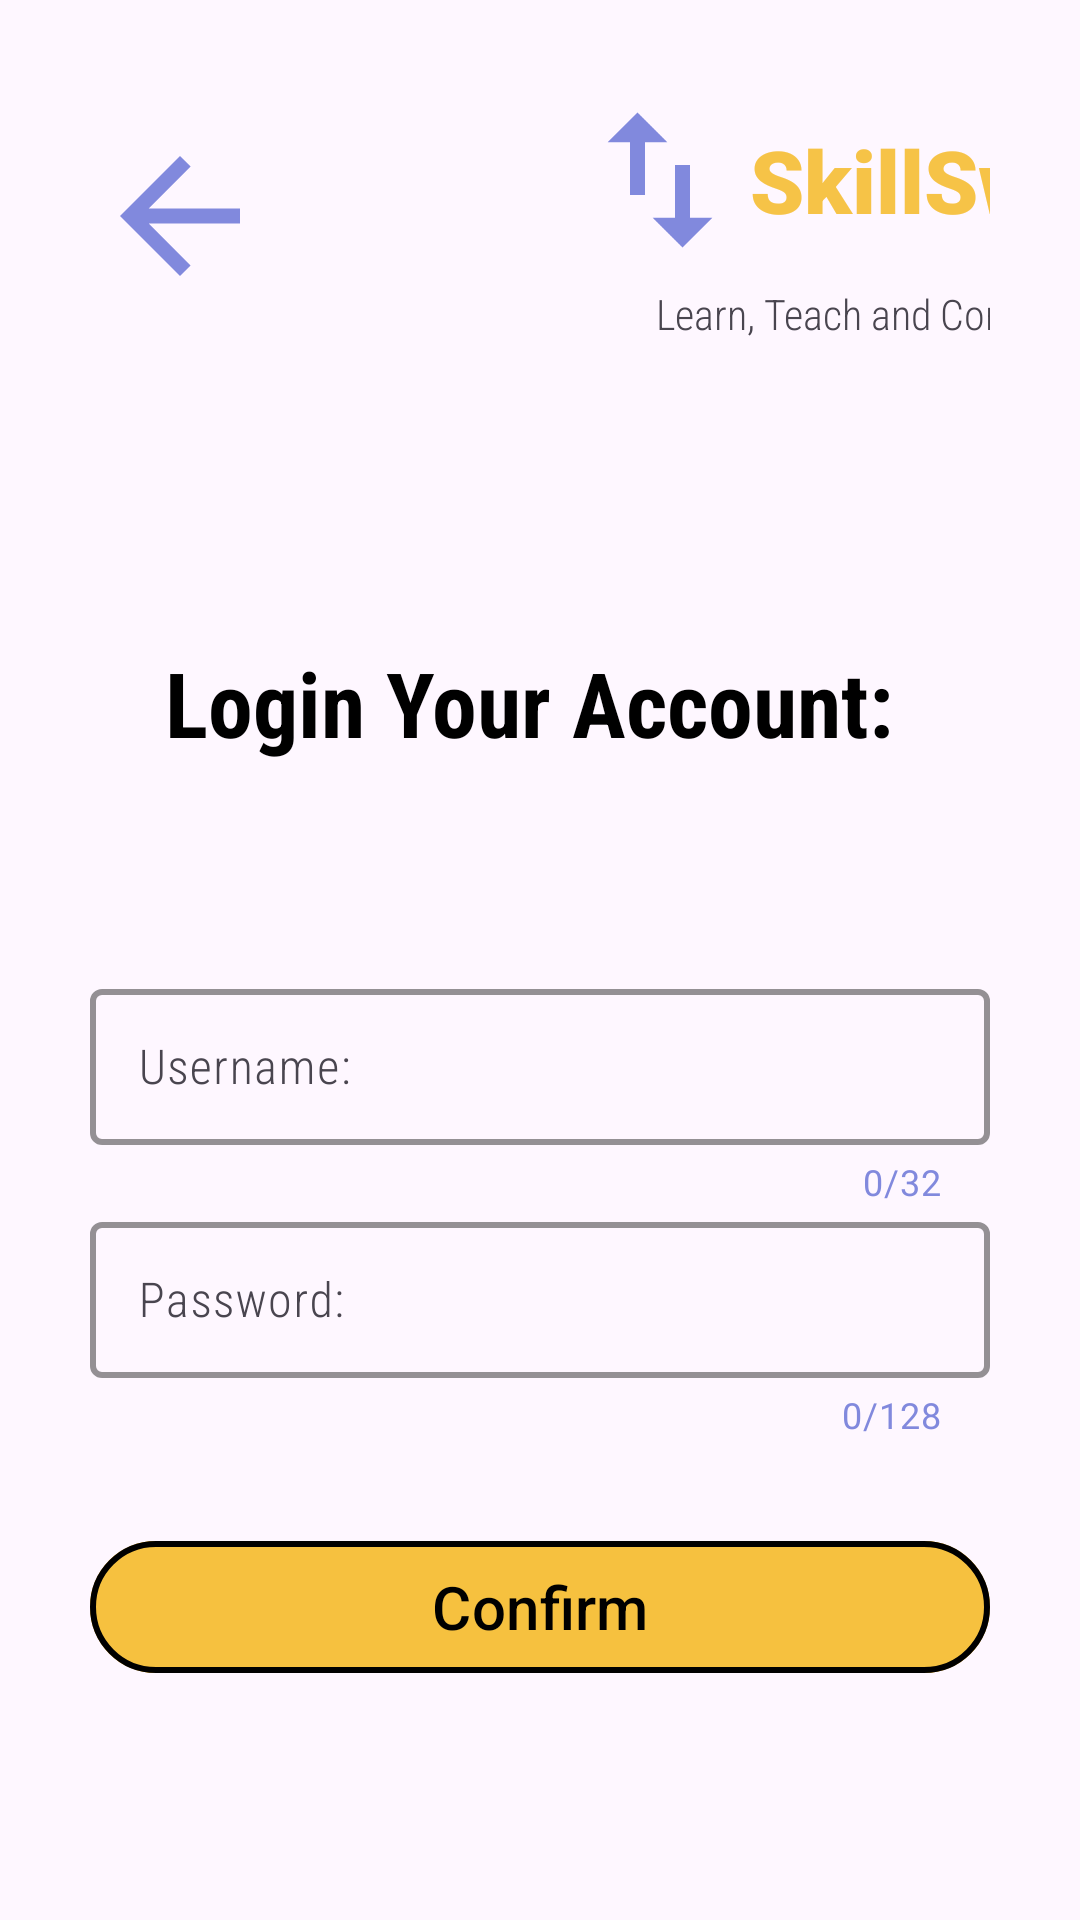

Named icons in this screenshot (1080*1920) and their bounding boxes, (x1, y1, x2, y2):
arrow back: (120, 156, 240, 276)
swap vert: (608, 112, 712, 248)
